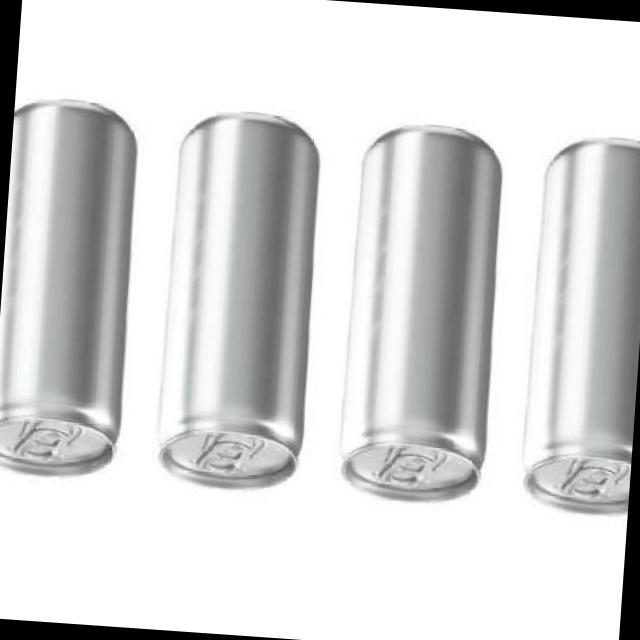Kaleng: (333, 120, 508, 508), (151, 108, 325, 496), (0, 96, 142, 482), (516, 133, 640, 520)
